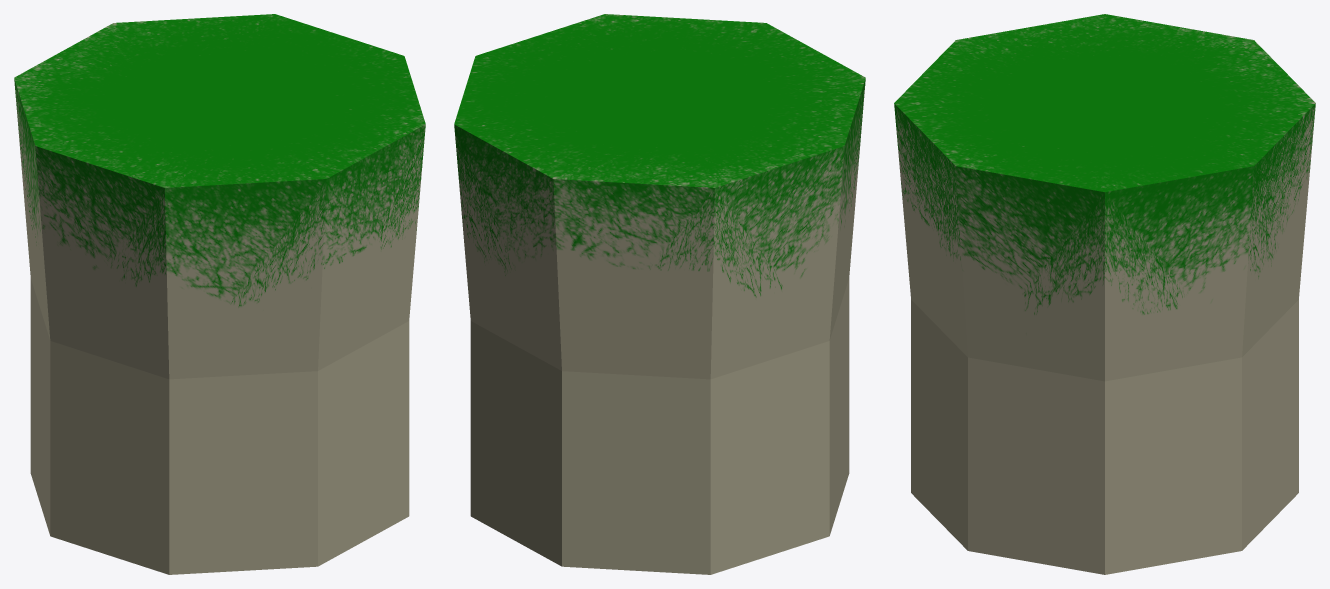
File: jumpingPlatform.dae
The picture shows the model from 3 angles, left to right: view 1: azimuth 30°, elevation 25°; view 2: azimuth 150°, elevation 25°; view 3: azimuth 270°, elevation 25°; orthographic projection.
Visible parts, largest first — view 1: Circle; view 2: Circle; view 3: Circle.
Part boxes in pixels (<box>): Circle: <box>14,14,425,574</box>; Circle: <box>454,14,865,574</box>; Circle: <box>894,14,1315,574</box>.
Size of the model in its own units: 43.51 by 44.38 by 43.51.
1 material, 1 textured.
